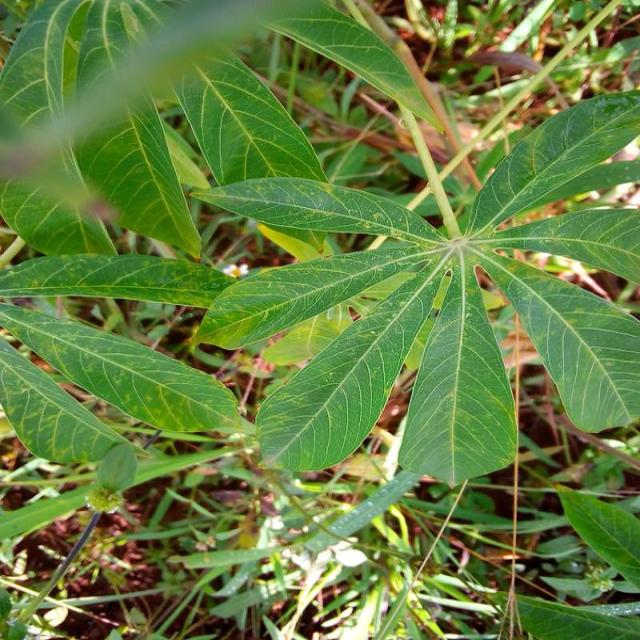cassava leaf: (188, 82, 640, 487), (255, 255, 451, 474), (2, 302, 250, 438), (398, 250, 519, 488)
